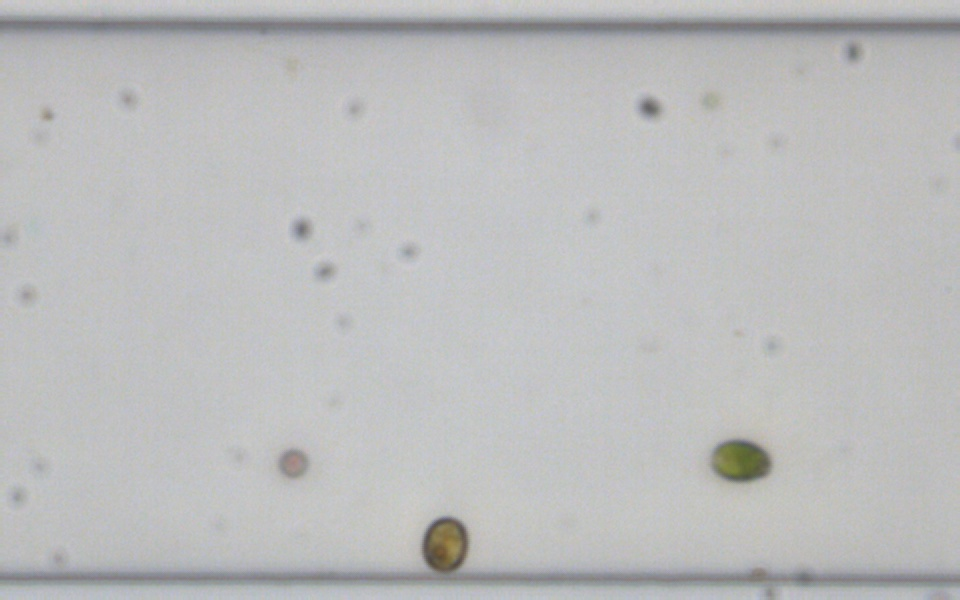Effrenium: (418, 513, 470, 575)
Platymonas: (706, 435, 771, 486)
Porphyridium: (276, 446, 310, 479)
